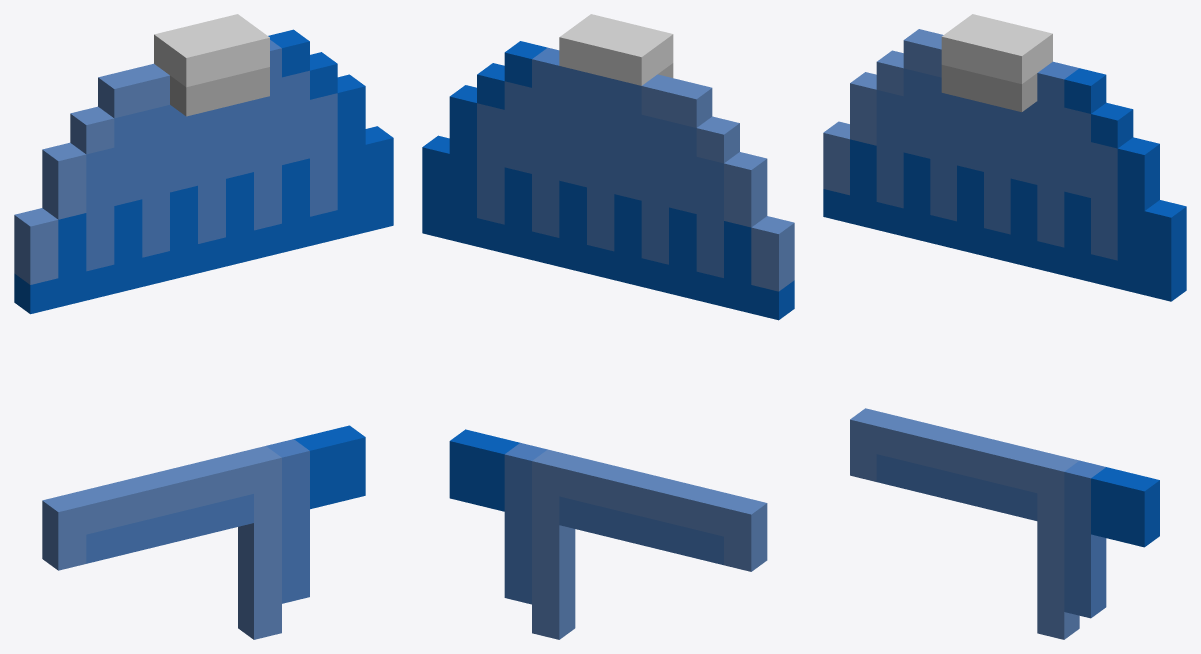
Rendered from bear-10.obj.
3 views of the same model, side by side, from view 1: azimuth 30°, elevation 25°; view 2: azimuth 150°, elevation 25°; view 3: azimuth 330°, elevation 25° (orthographic). The views are drawn at different scales.
Size of the model in its own units: 1.3 by 2.1 by 0.2.
Materials: 1 (1 with a texture image).
